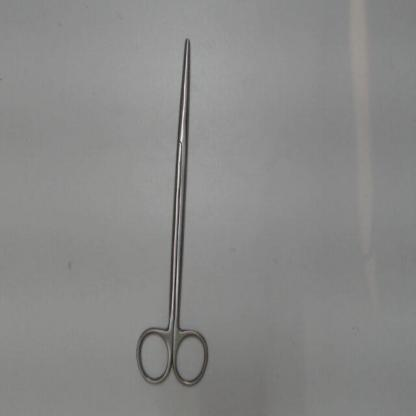9 Metzenbaum Scissors: (130, 30, 213, 393)
